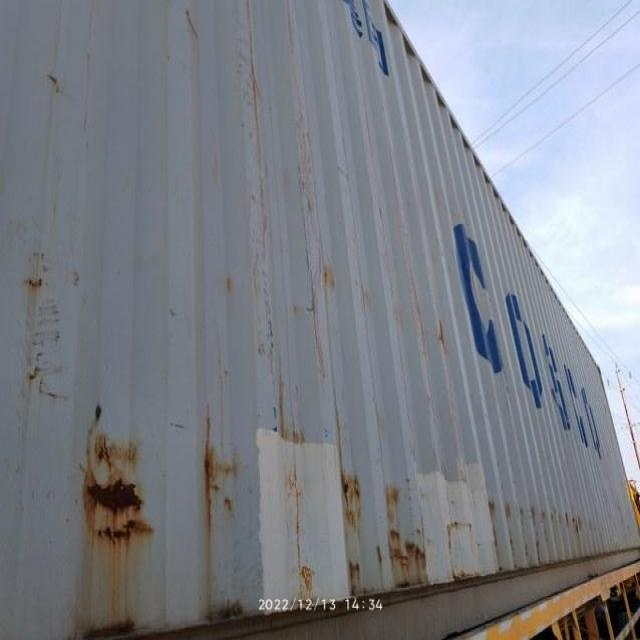Minor-Dent: (386, 543, 423, 588)
Rust: (78, 425, 142, 539), (340, 470, 381, 520)
